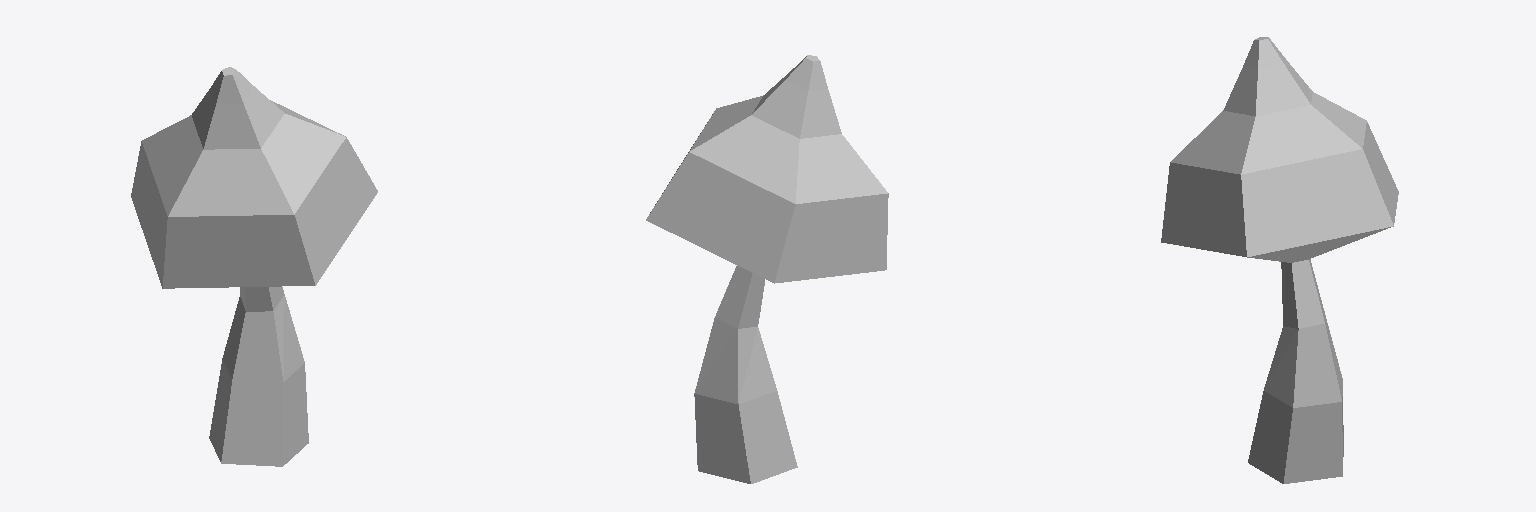
Rendered from smallmushroom1.obj.
3 views of the same model, side by side, from view 1: azimuth 30°, elevation 25°; view 2: azimuth 150°, elevation 25°; view 3: azimuth 270°, elevation 25° (orthographic).
Bounding box in the file's own units: 0.4558 × 0.8288 × 0.443.